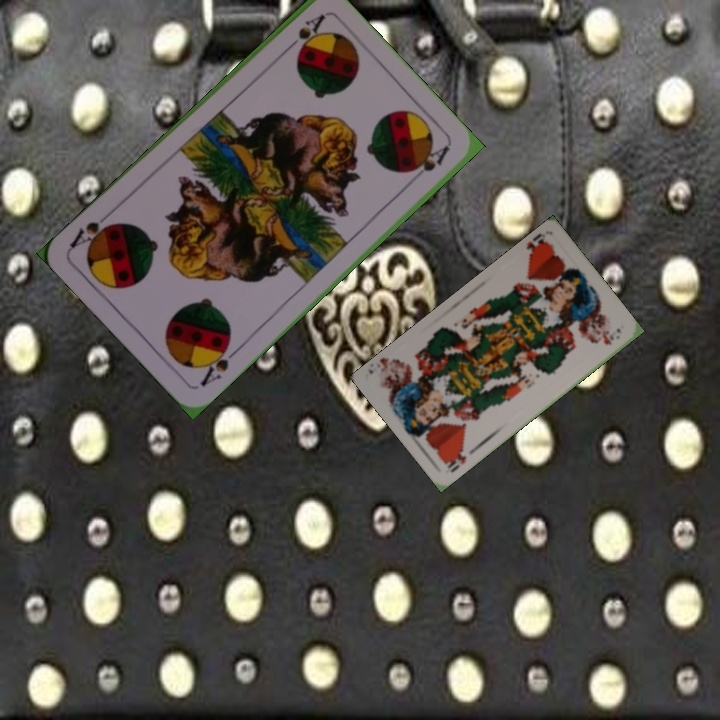HO: (522, 229, 551, 262), (441, 445, 469, 475)
SA: (196, 337, 242, 390), (280, 10, 328, 56)
